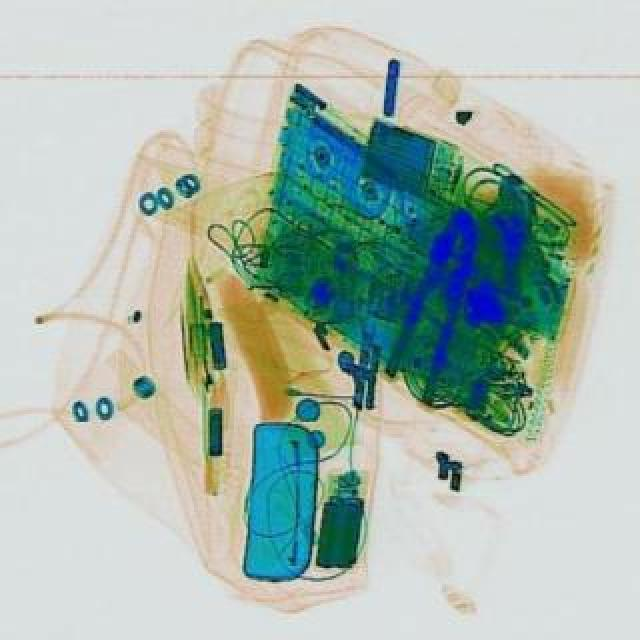wrench: (374, 198, 490, 402)
